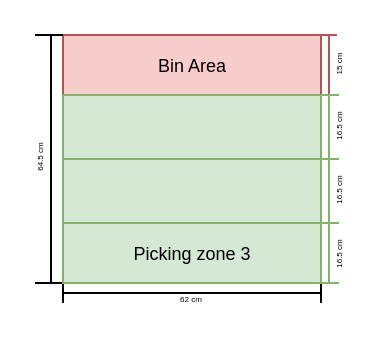
Some shapes in this 382 by 342 pixel diagram are drawn without their labels. Each missing label, with the box of its shape:
Picking zone 1: (61, 93, 321, 159)
Picking zone 2: (61, 157, 321, 223)
